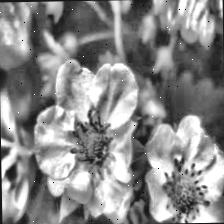Blossom Blight: (158, 154, 212, 222)
